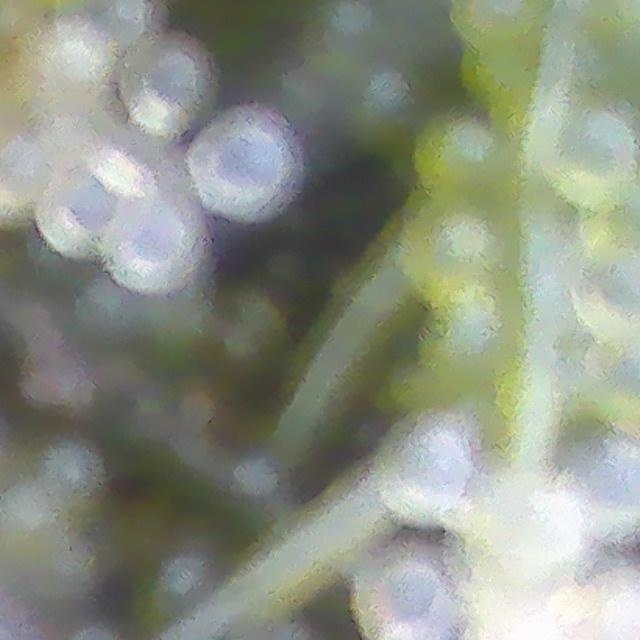SeaGrape: (457, 476, 580, 617), (184, 101, 299, 221), (375, 417, 481, 531), (35, 155, 144, 259), (410, 111, 515, 210), (351, 552, 468, 640), (108, 190, 206, 291), (400, 210, 504, 301), (22, 17, 115, 108), (121, 36, 206, 130), (578, 438, 640, 539), (570, 251, 640, 331), (0, 140, 55, 218), (81, 0, 147, 44)
